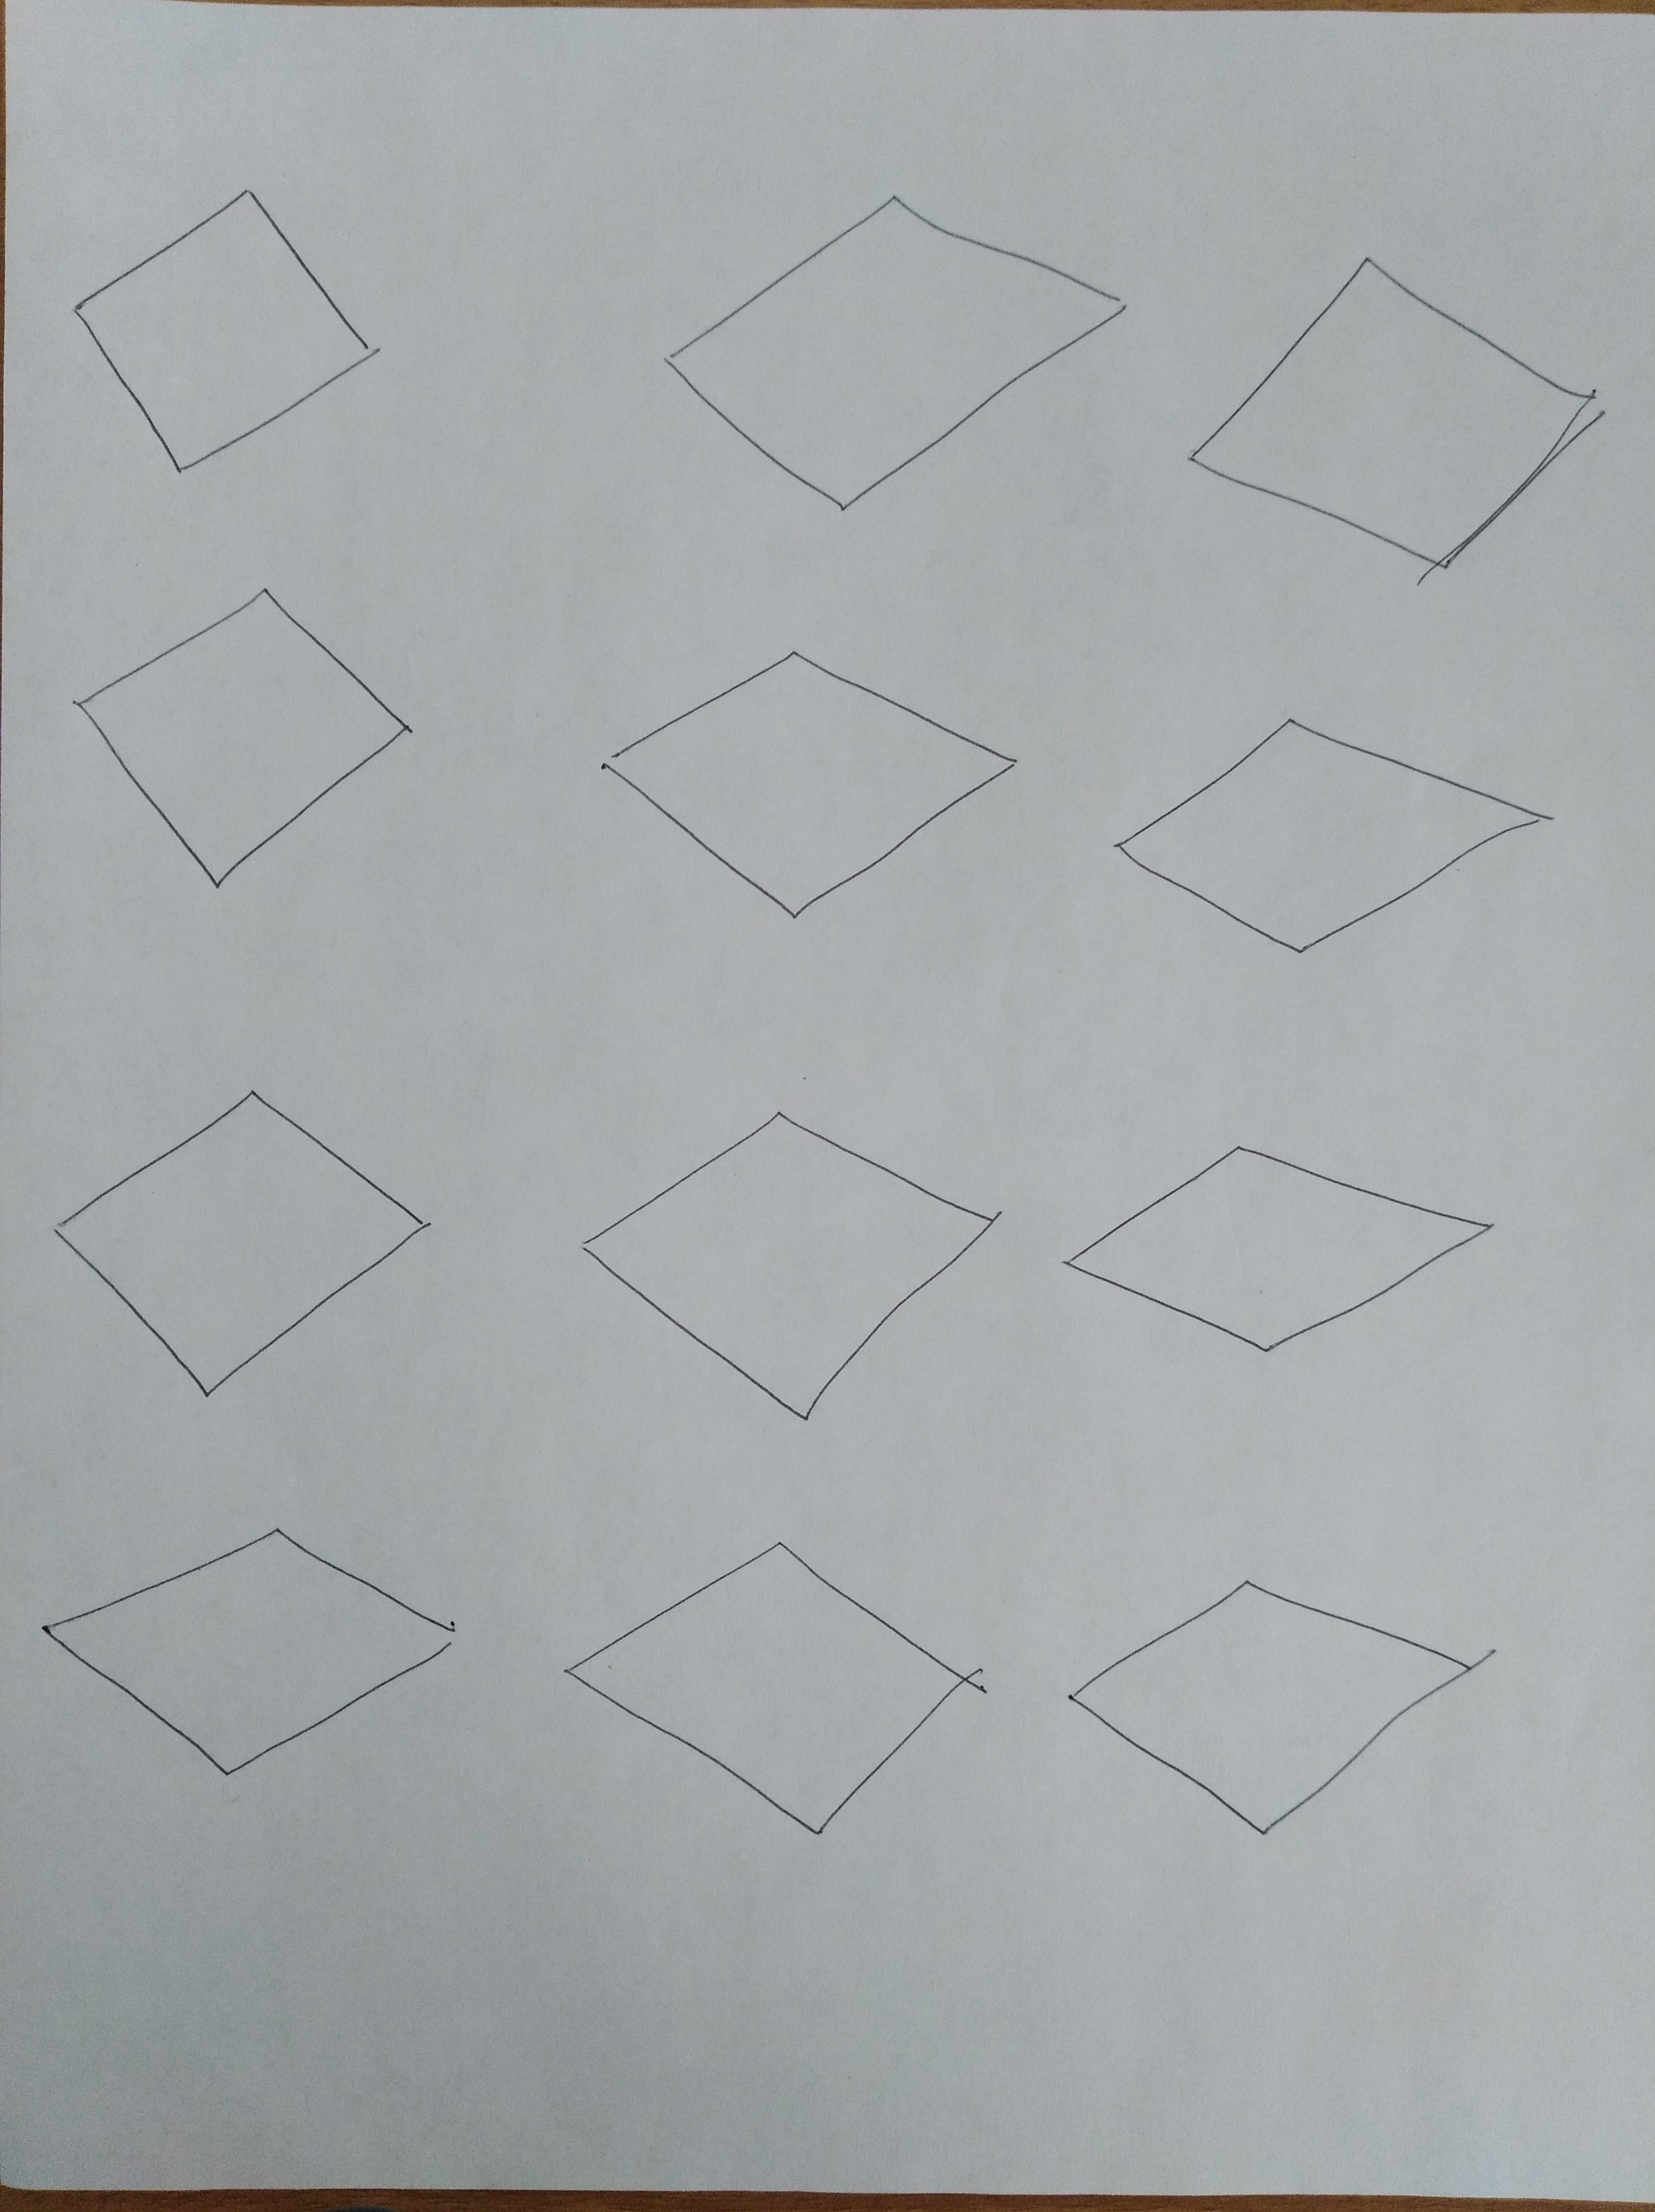decision: (629, 125, 1140, 537), (1170, 210, 1624, 617), (551, 1062, 1020, 1442), (562, 613, 1060, 945), (541, 1508, 1008, 1859), (1045, 1070, 1519, 1407), (1087, 667, 1587, 985), (1047, 1526, 1518, 1863), (33, 1055, 450, 1418), (23, 1491, 487, 1805), (40, 125, 403, 511), (45, 561, 443, 905)
